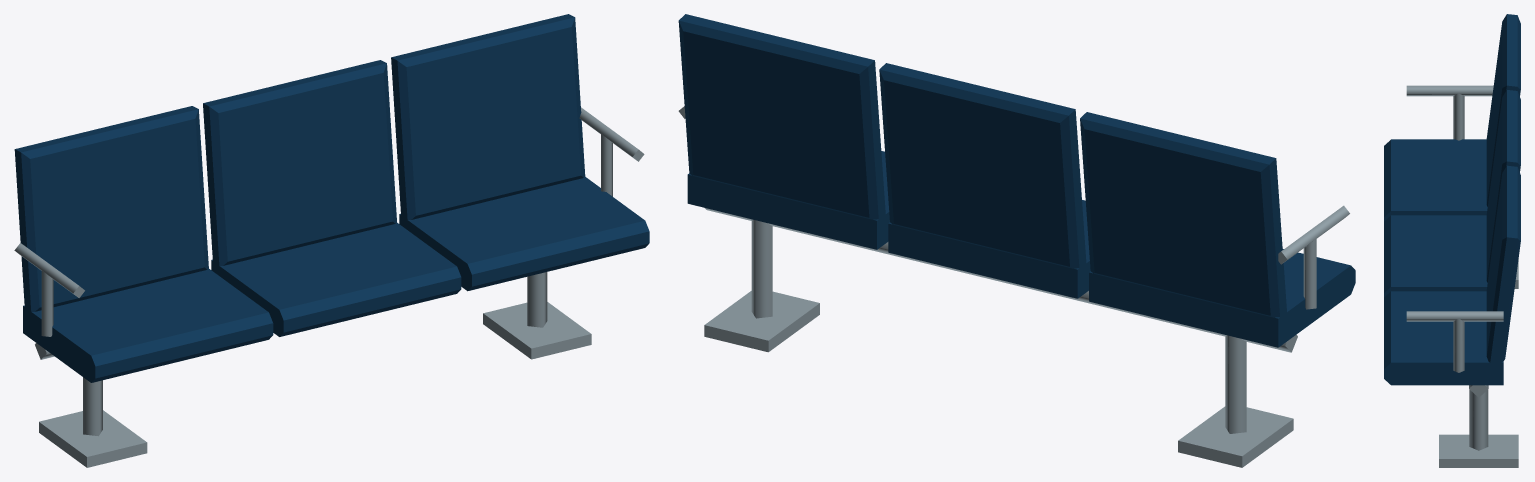
The model's file is sg-train-seat.glb.
3 renders of one model, left to right at view 1: azimuth 30°, elevation 25°; view 2: azimuth 150°, elevation 25°; view 3: azimuth 270°, elevation 25°, orthographic. The views are drawn at different scales.
Parts seen in each view (by area): view 1: body; view 2: body; view 3: body.
Boxes of the visible parts, left/top/right/bottom form: body: left=14, top=14, right=649, bottom=467; body: left=678, top=14, right=1355, bottom=467; body: left=1384, top=14, right=1520, bottom=467.
Bounding box in the file's own units: 2.19 × 1.07 × 0.5485.
